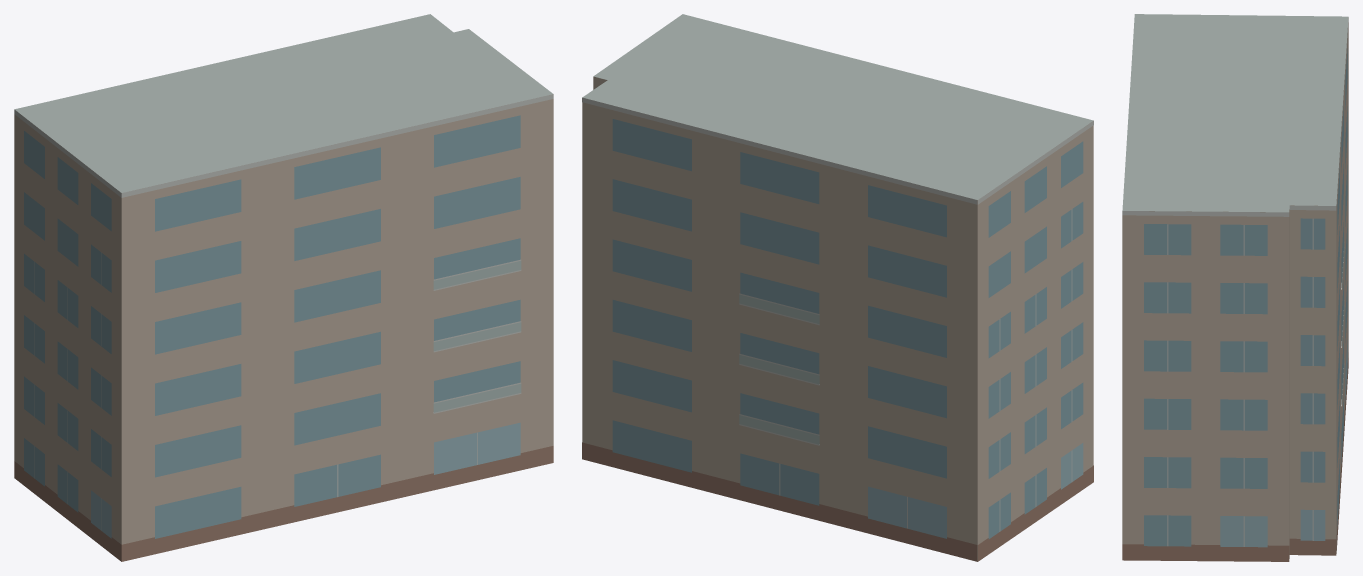
Rendered from survey-upis-32940703.glb.
3 views of the same model, side by side, from view 1: azimuth 30°, elevation 25°; view 2: azimuth 150°, elevation 25°; view 3: azimuth 270°, elevation 25° (orthographic). The views are drawn at different scales.
Visible parts, largest first — view 1: survey-upis-32940703.tmp; view 2: survey-upis-32940703.tmp; view 3: survey-upis-32940703.tmp.
Part boxes in pixels (left/top/right/bottom): survey-upis-32940703.tmp: left=14, top=14, right=553, bottom=561; survey-upis-32940703.tmp: left=582, top=14, right=1093, bottom=561; survey-upis-32940703.tmp: left=1122, top=14, right=1348, bottom=561.
Bounding box in the file's own units: 22.95 × 18.85 × 11.06.
